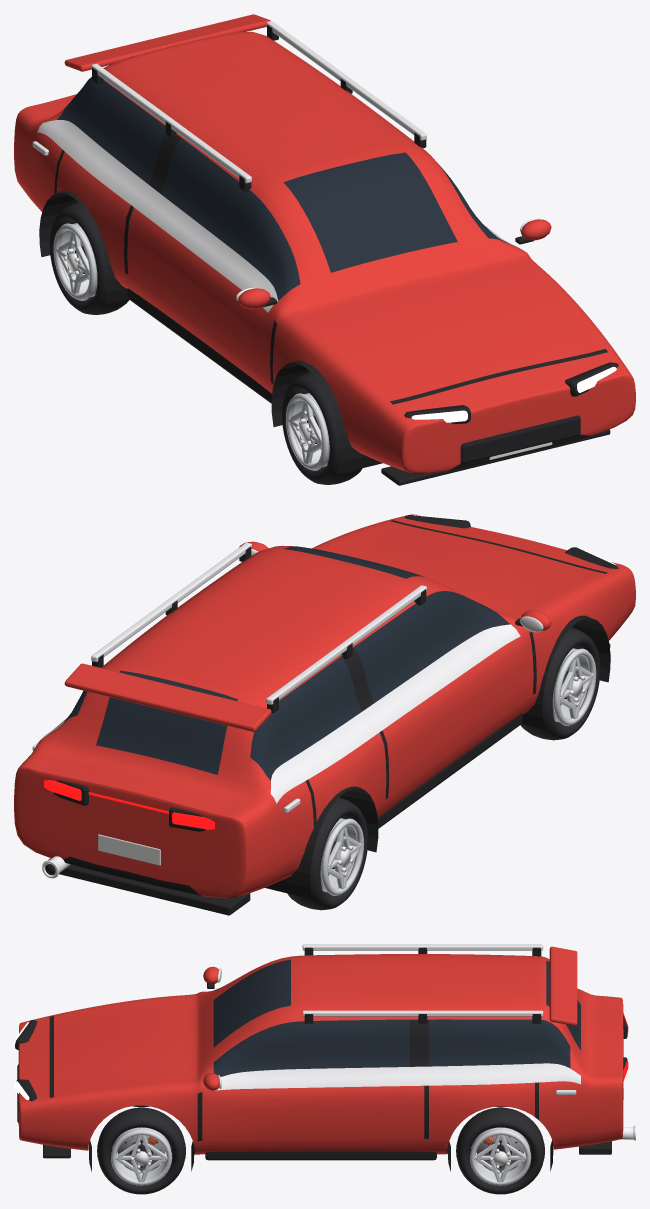
The model's file is nordwind_mid.glb.
The picture shows the model from 3 angles, top to bottom: view 1: azimuth 30°, elevation 25°; view 2: azimuth 150°, elevation 25°; view 3: azimuth 270°, elevation 25°; orthographic projection. The views are drawn at different scales.
Visible parts, largest first — view 1: body, wheel_rr, wheel_fr; view 2: body, wheel_fr, wheel_rr; view 3: body, wheel_fl, wheel_rl.
Boxes of the visible parts, left/top/right/bottom form: body: left=14, top=14, right=635, bottom=485; wheel_rr: left=49, top=202, right=129, bottom=314; wheel_fr: left=281, top=372, right=362, bottom=484; body: left=14, top=514, right=635, bottom=915; wheel_fr: left=520, top=627, right=600, bottom=740; wheel_rr: left=287, top=797, right=368, bottom=910; body: left=14, top=944, right=635, bottom=1171; wheel_fl: left=97, top=1107, right=185, bottom=1194; wheel_rl: left=456, top=1107, right=544, bottom=1194.
Size of the model in its own units: 2.18 by 1.47 by 4.89.
